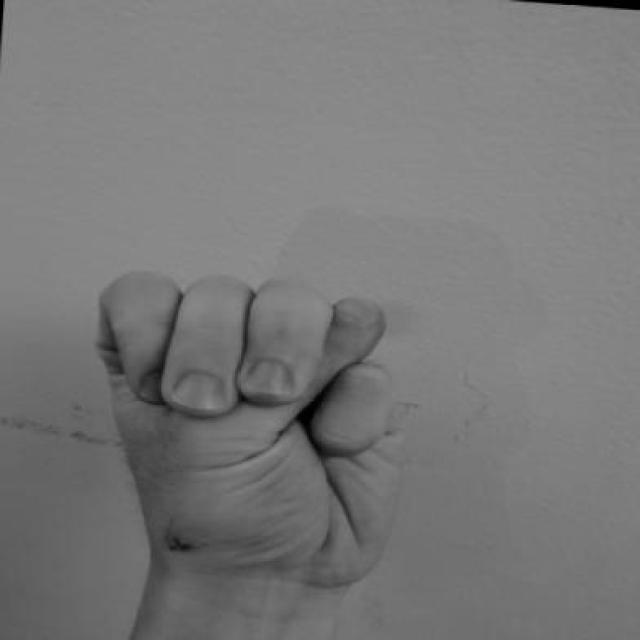M: (64, 253, 432, 596)
